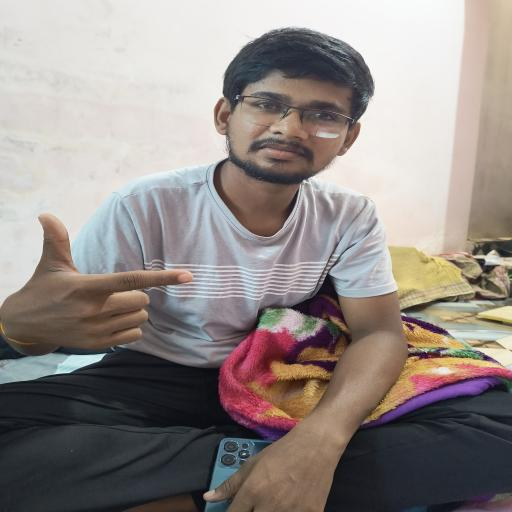OK: (0, 201, 220, 374)
